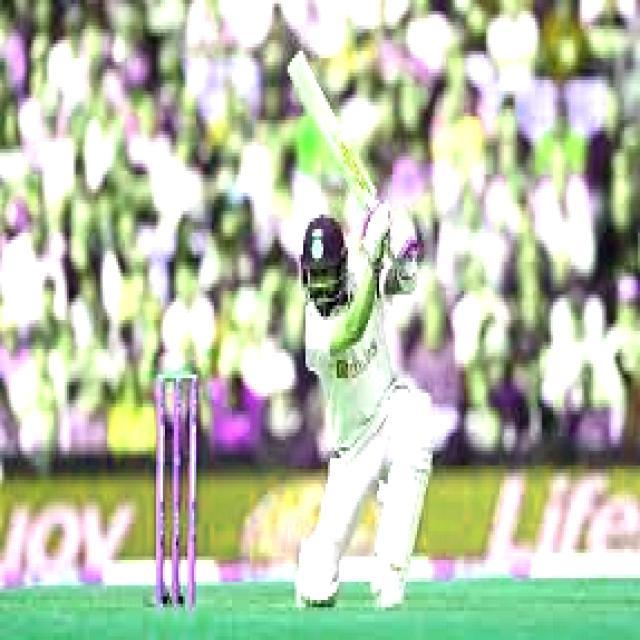bat: (271, 51, 391, 207)
toe: (282, 48, 314, 67)
